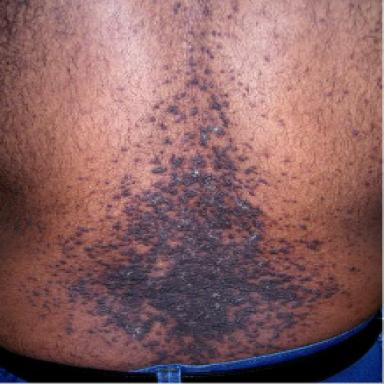Darier_s-Disease: (20, 0, 359, 367)
